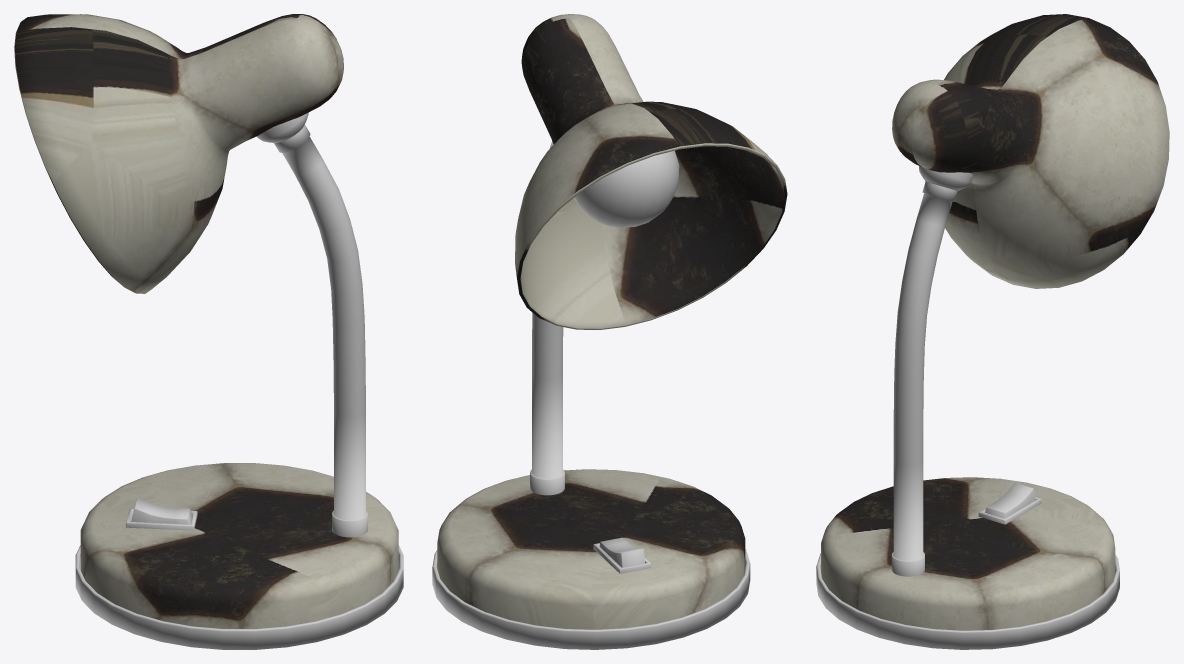
The model's file is test-lamp.gltf.
The picture shows the model from 3 angles, left to right: view 1: azimuth 30°, elevation 25°; view 2: azimuth 150°, elevation 25°; view 3: azimuth 270°, elevation 25°; orthographic projection. The views are drawn at different scales.
Parts seen in each view (by area): view 1: Desk_Lamp_bulb_0.003; view 2: Desk_Lamp_bulb_0.003; view 3: Desk_Lamp_bulb_0.003.
Part boxes in pixels (box(x1,y1,x2,y2)): Desk_Lamp_bulb_0.003: box(14, 14, 403, 649); Desk_Lamp_bulb_0.003: box(432, 14, 787, 649); Desk_Lamp_bulb_0.003: box(816, 14, 1169, 649).
Bounding box in the file's own units: 0.2127 × 0.3352 × 0.2066.
